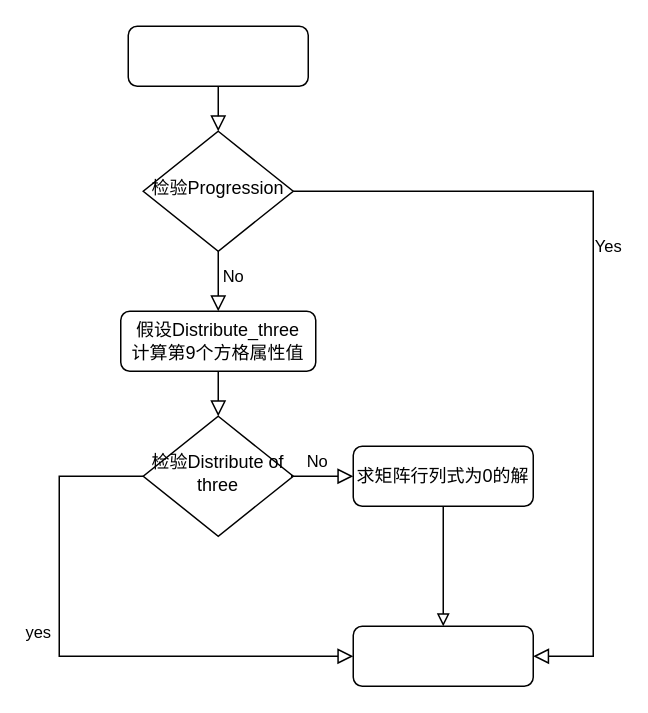
Image size: 648x713. Some labels were removed from this diagram. Each missing label, with the box of its shape:
假设Progression 计算第9个方格属性值: (127, 25, 308, 86)
获得瑞文图片的规则: (352, 625, 533, 686)
